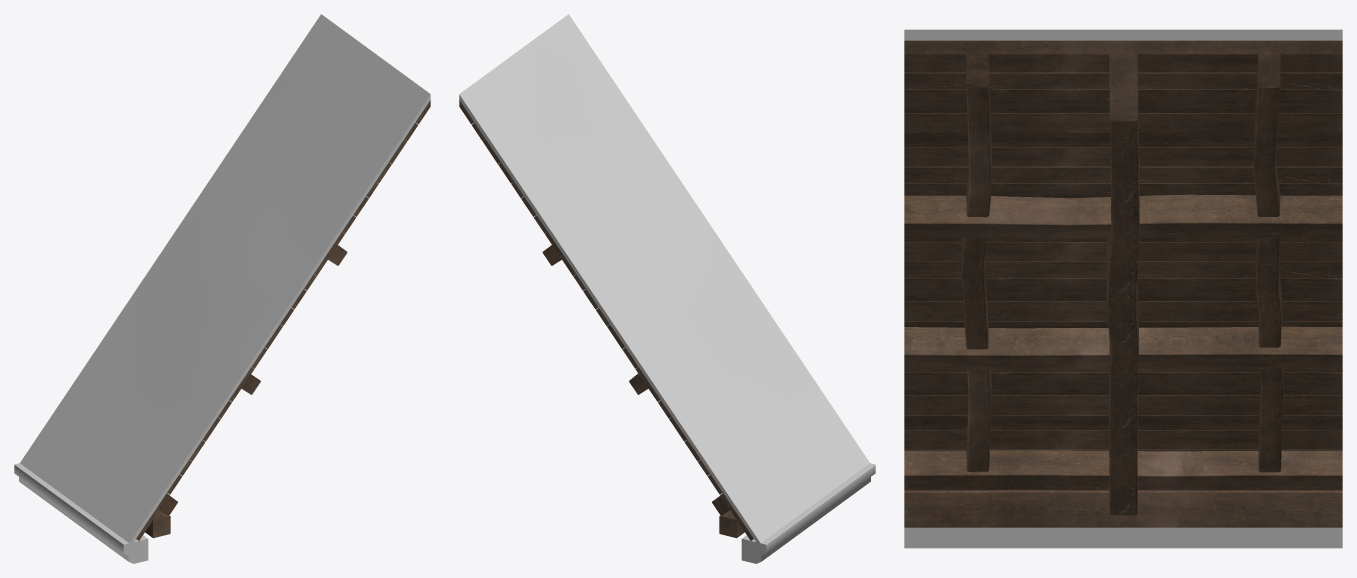
Rendered from SM_Roof_12m_06.fbx.
3 views of the same model, side by side, from view 1: azimuth 30°, elevation 25°; view 2: azimuth 150°, elevation 25°; view 3: azimuth 270°, elevation 25° (orthographic). The views are drawn at different scales.
Visible parts, largest first — view 1: SM_Roof_12m_06_LOD0; view 2: SM_Roof_12m_06_LOD0; view 3: SM_Roof_12m_06_LOD0.
Boxes of the visible parts, x1,y1,x2,y2 form: SM_Roof_12m_06_LOD0: (14,14,430,563); SM_Roof_12m_06_LOD0: (459,14,875,563); SM_Roof_12m_06_LOD0: (904,29,1342,548).
Size of what is drawn, in the model's own units: 647 by 801 by 400.
